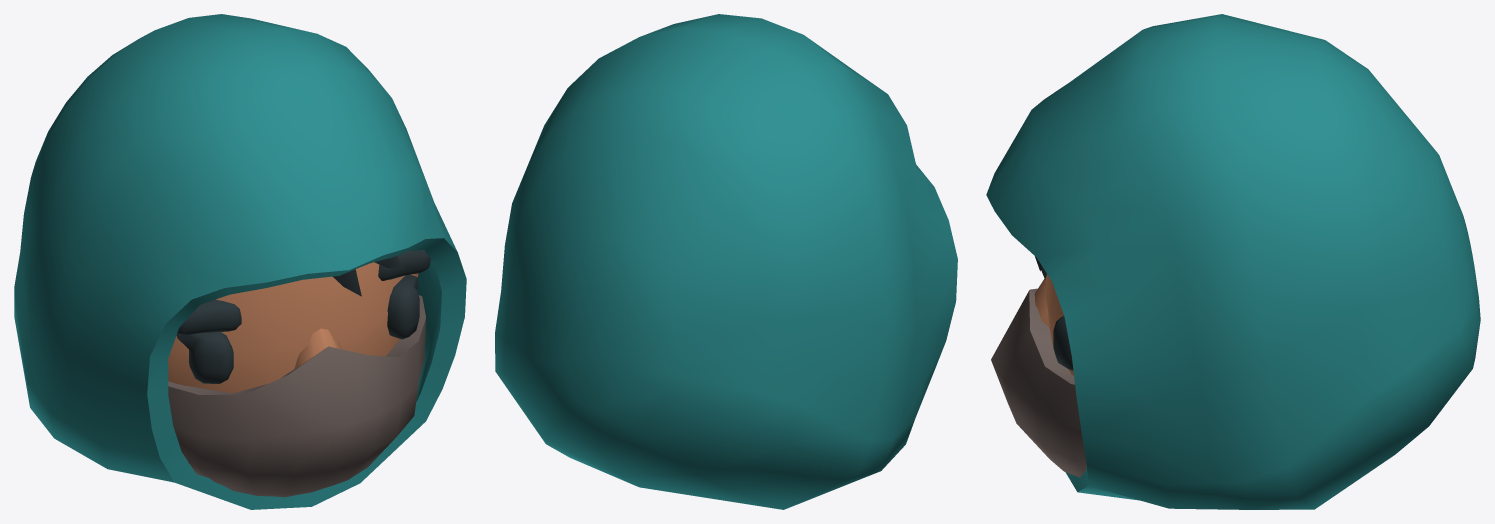
Rendered from character_merchantHeadHooded.gltf.glb.
The picture shows the model from 3 angles, left to right: view 1: azimuth 30°, elevation 25°; view 2: azimuth 150°, elevation 25°; view 3: azimuth 270°, elevation 25°; orthographic projection. The views are drawn at different scales.
Parts seen in each view (by area): view 1: character_merchantHeadHooded; view 2: character_merchantHeadHooded; view 3: character_merchantHeadHooded.
Boxes of the visible parts, x1,y1,x2,y2 form: character_merchantHeadHooded: (14,14,466,509); character_merchantHeadHooded: (495,14,957,509); character_merchantHeadHooded: (986,14,1480,509).
Size of the model in its own units: 1.08 by 1.17 by 1.2.
